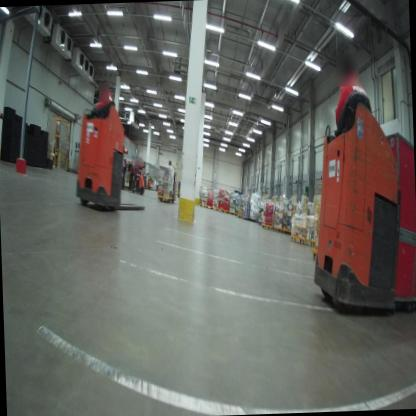pallet_truck: (296, 96, 406, 322), (67, 101, 148, 216), (154, 171, 179, 206), (116, 156, 138, 195), (119, 168, 147, 198)
